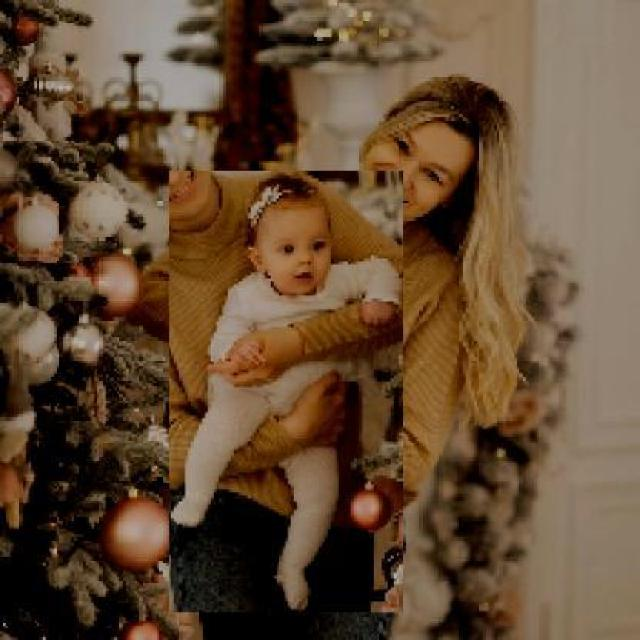child: (168, 172, 403, 614)
